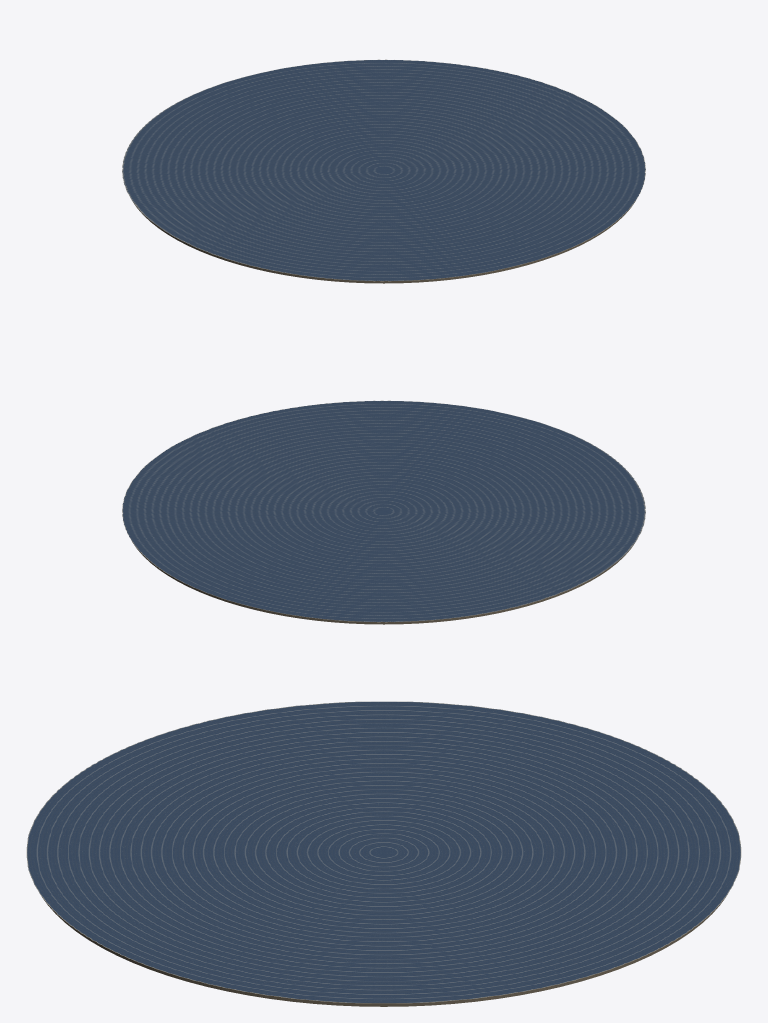
The model's file is officeRoundMidnight.glb.
3 views of the same model, one above another, from view 1: azimuth 30°, elevation 25°; view 2: azimuth 150°, elevation 25°; view 3: azimuth 270°, elevation 25° (orthographic). The views are drawn at different scales.
Bounding box in the file's own units: 2.2 × 0.014 × 2.2.
2 materials, 1 textured.
